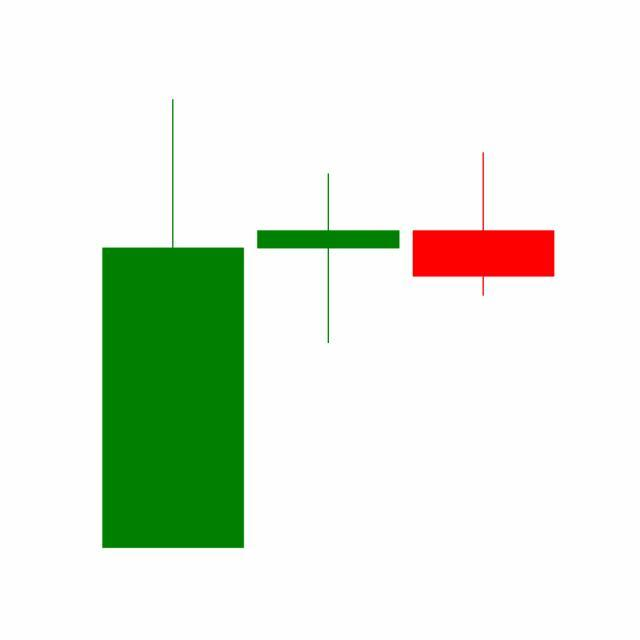Hammer: (250, 171, 407, 346)
